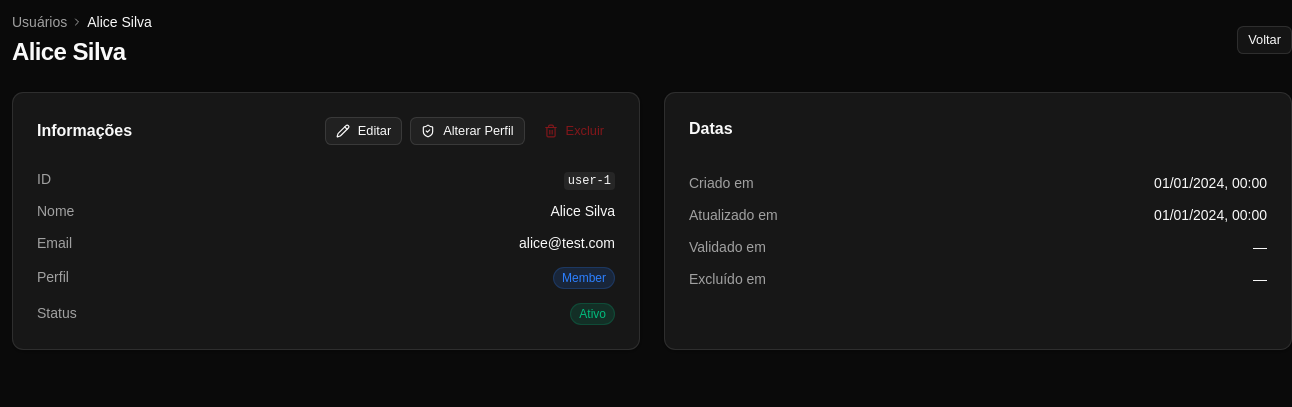
it: UserDetailPage — edição › resposta 409 exibe erro inline no campo email
The image size is (1292, 407).
Click the button "Editar".
click(364, 131)  # box [325,117,402,145]
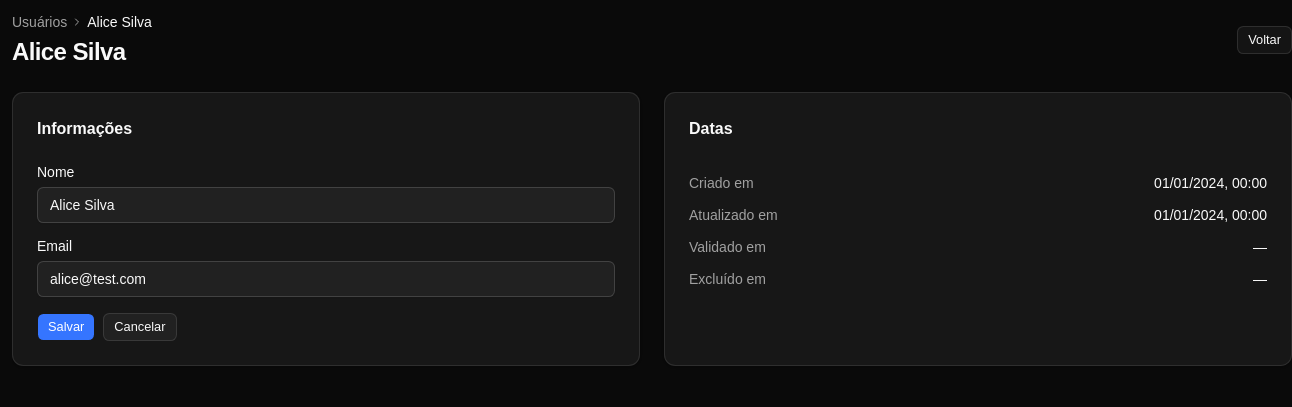
Click the button "Salvar".
click(66, 327)  # box [37,313,95,341]
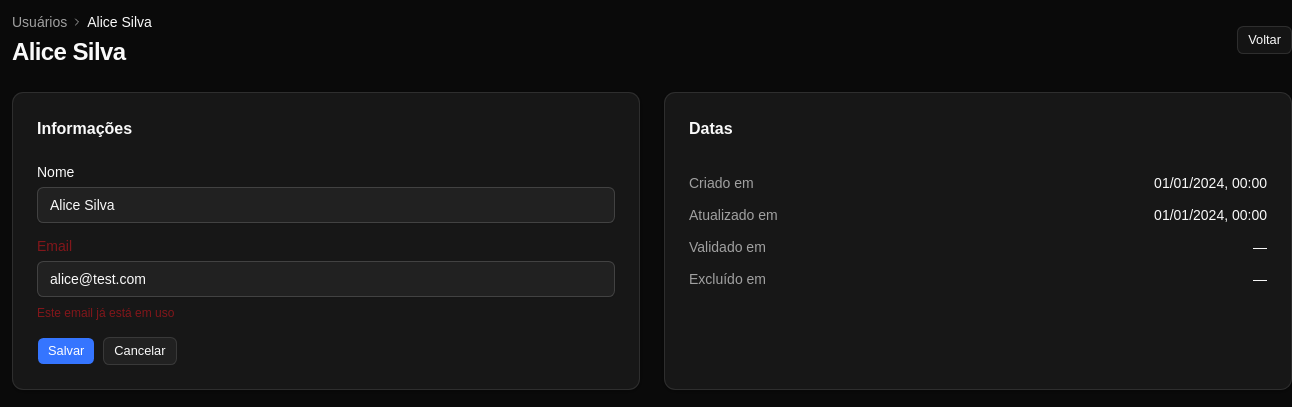
Expected: the text "Este email já está em uso" is shown, [37,306,174,320]
